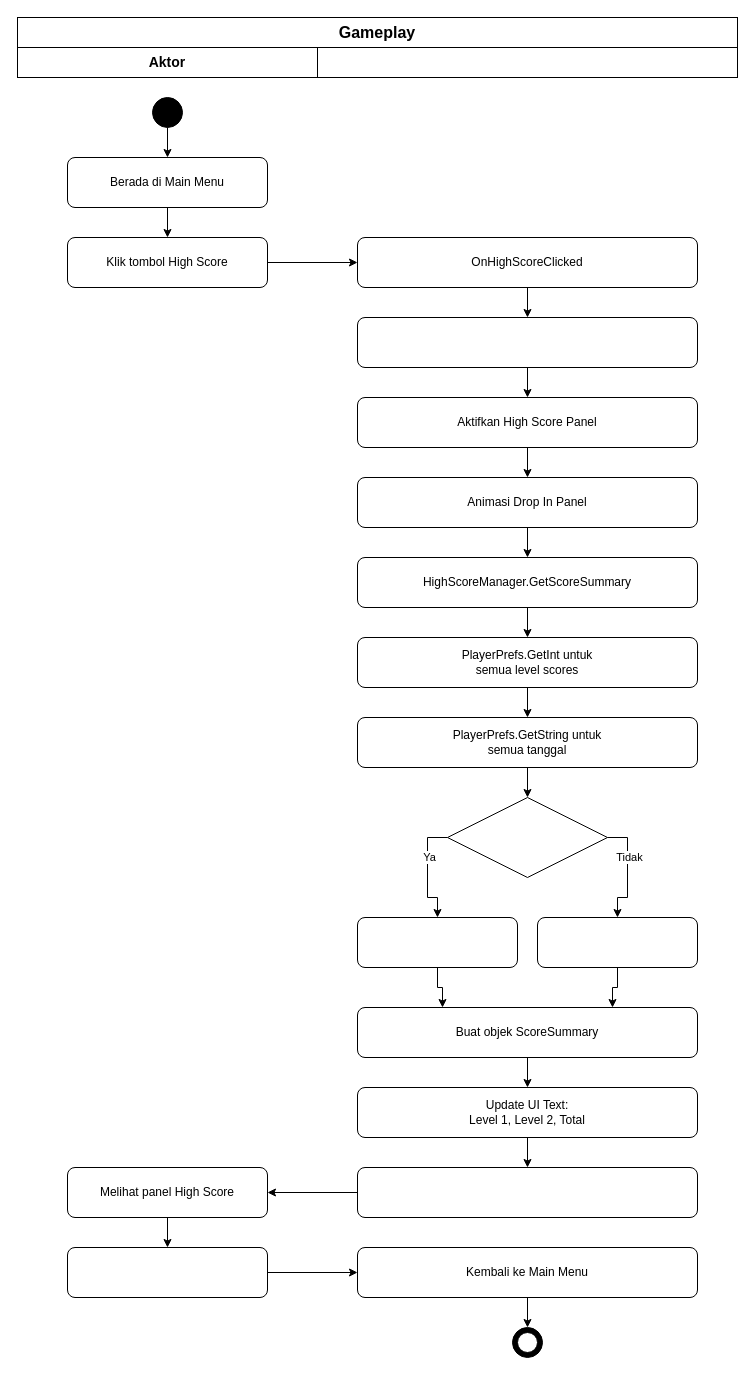
The diagram is 755 pixels wide and 1375 high, and some of its shapes have lost their labels. Each missing label, with the centre of its shape:
Animasi Sink Out Main Menu: pixel 527 342
Data ditemukan?: pixel 527 837
Klik tombol Back: pixel 167 1272
Return nilai default 0 atau -: pixel 617 942
Return nilai tersimpan: pixel 437 942
Sistem: pixel 527 62
Tampilkan High Score: pixel 527 1192
